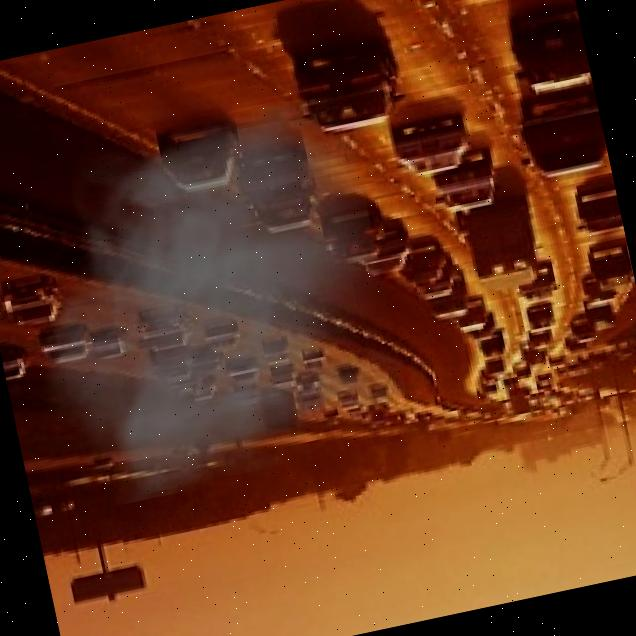smoke: (0, 90, 417, 518)
